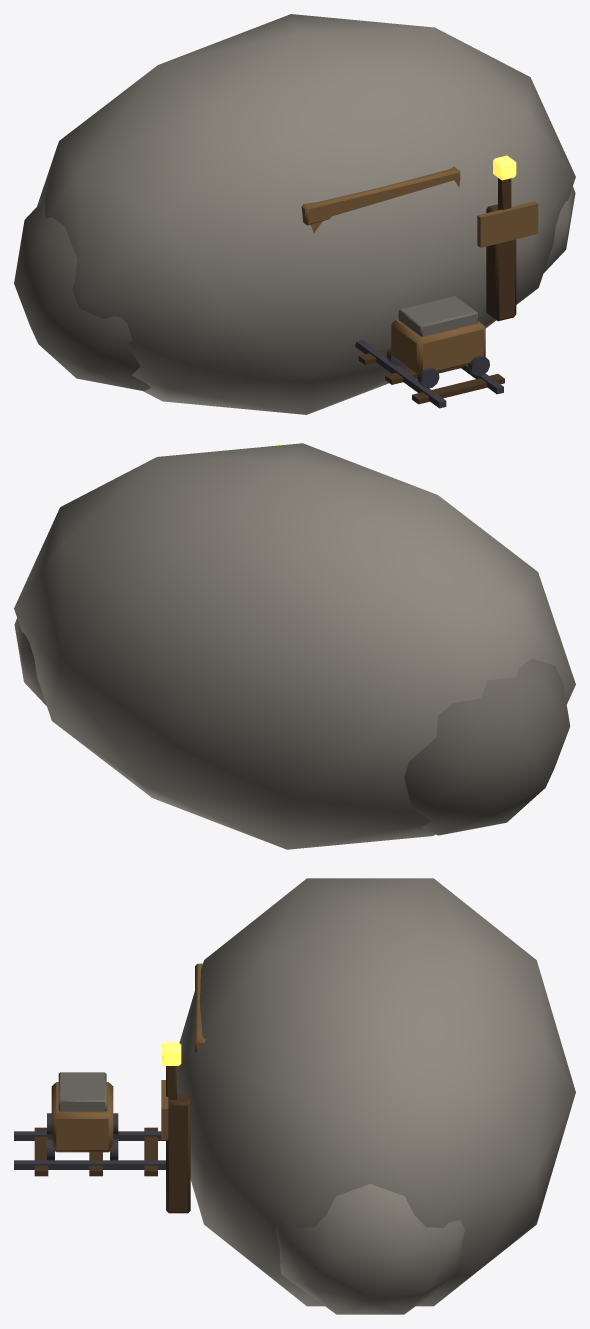
Rendered from mine.glb.
3 renders of one model, top to bottom at view 1: azimuth 30°, elevation 25°; view 2: azimuth 150°, elevation 25°; view 3: azimuth 270°, elevation 25°, orthographic. The views are drawn at different scales.
Visible parts, largest first — view 1: building; view 2: building; view 3: building.
Boxes of the visible parts, bbox=[...] form: building: bbox=[14, 14, 575, 414]; building: bbox=[14, 443, 575, 849]; building: bbox=[14, 878, 575, 1314].
Bounding box in the file's own units: 4.52 × 3 × 4.1.
